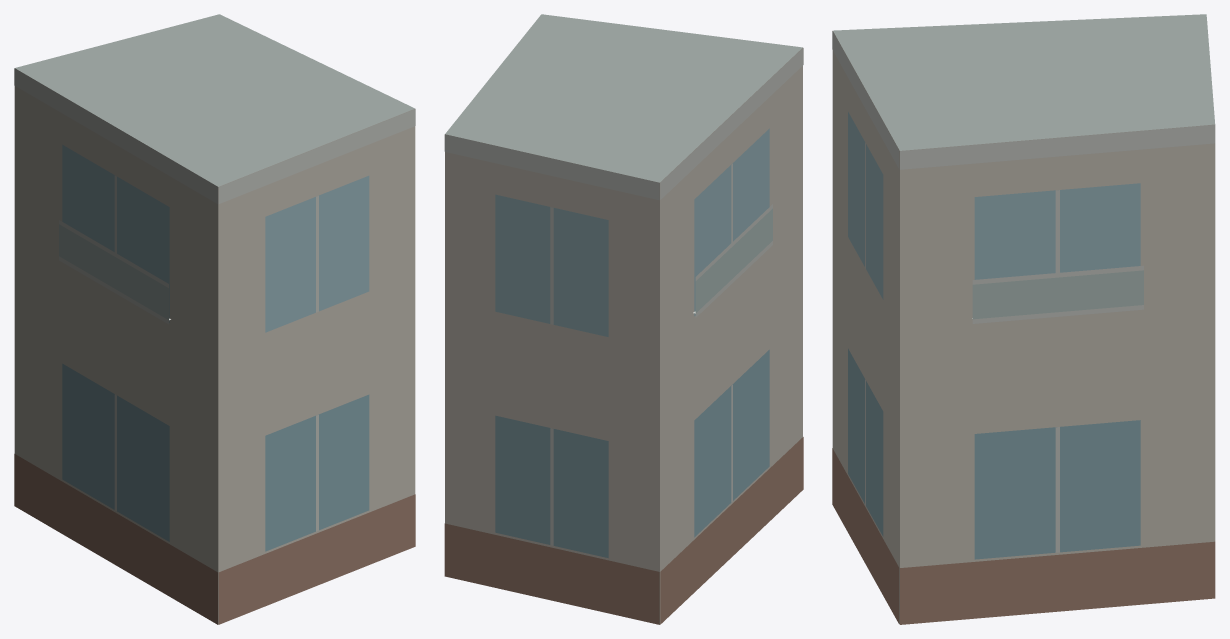
The model's file is survey-upis-33031151.glb.
The picture shows the model from 3 angles, left to right: view 1: azimuth 30°, elevation 25°; view 2: azimuth 150°, elevation 25°; view 3: azimuth 270°, elevation 25°; orthographic projection. The views are drawn at different scales.
Visible parts, largest first — view 1: survey-upis-33031151.tmp; view 2: survey-upis-33031151.tmp; view 3: survey-upis-33031151.tmp.
Boxes of the visible parts, x1,y1,x2,y2 form: survey-upis-33031151.tmp: (14, 14, 415, 624); survey-upis-33031151.tmp: (444, 14, 803, 624); survey-upis-33031151.tmp: (832, 14, 1215, 624).
Size of the model in its own units: 3.79 by 6.1 by 4.48.
